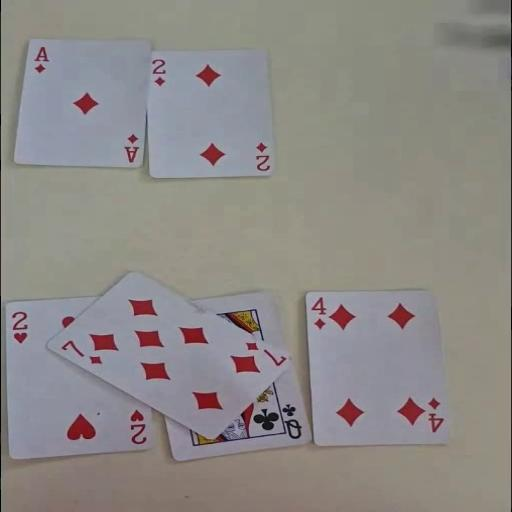2: (126, 408, 148, 445), (8, 309, 29, 345), (252, 140, 272, 172), (149, 57, 167, 87)
4: (424, 400, 446, 434), (308, 295, 328, 331)
7: (57, 338, 104, 365), (242, 340, 289, 367)
A: (121, 132, 140, 164), (30, 44, 50, 74)
Q: (278, 401, 304, 440)
